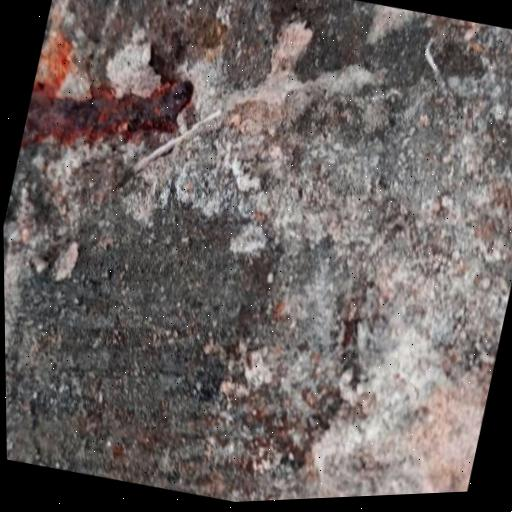exposed_rebar: (20, 81, 193, 149)
